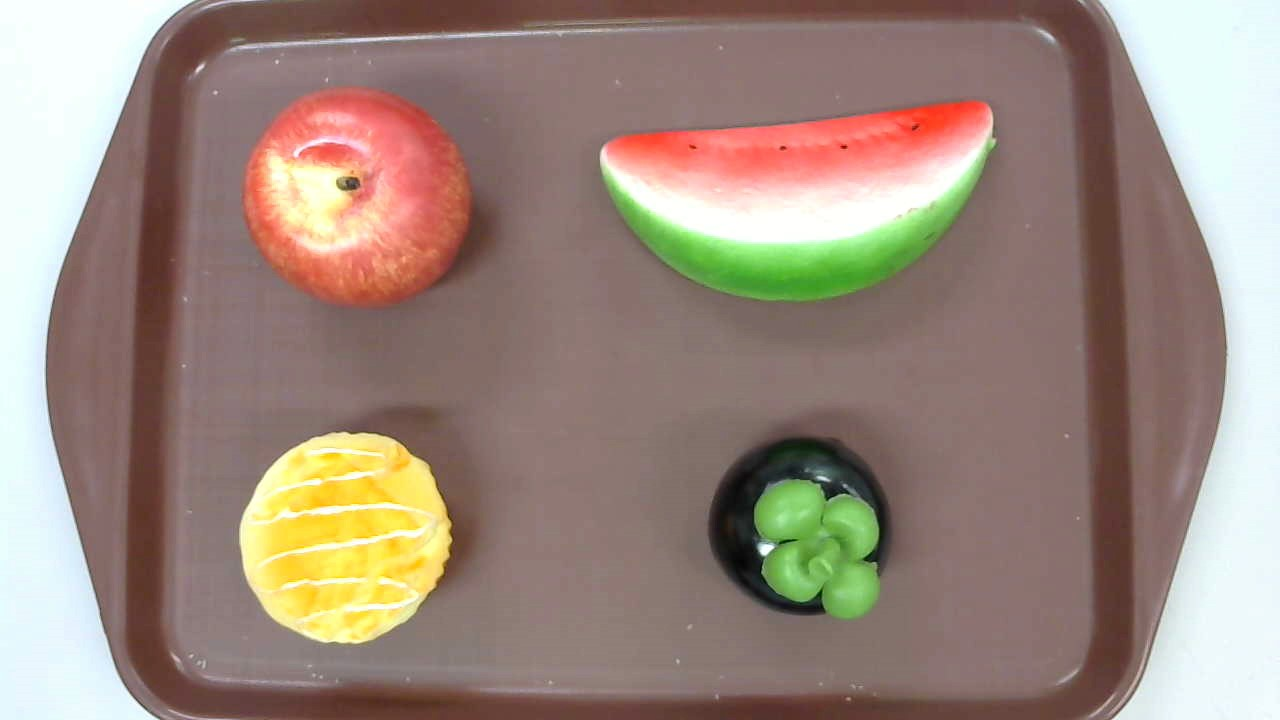cupcake: (239, 430, 452, 647)
mangosteen: (706, 433, 892, 621)
red apple: (240, 85, 472, 309)
water melon: (600, 99, 997, 303)
